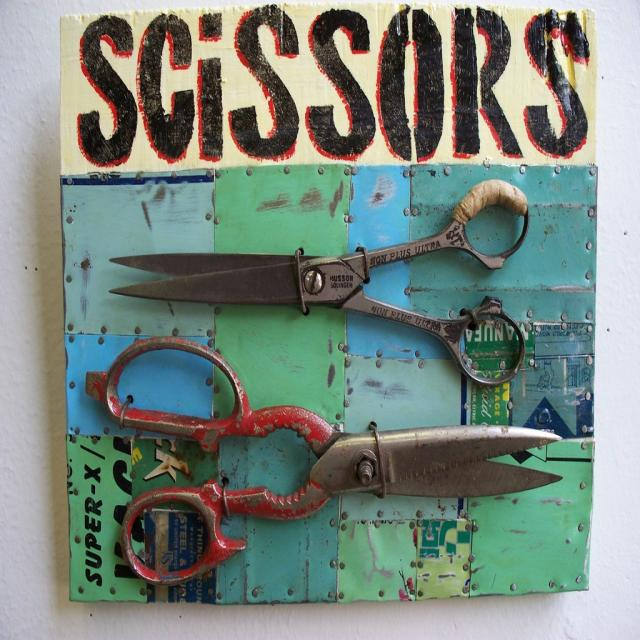scissors: (85, 334, 563, 585), (107, 177, 529, 386)
